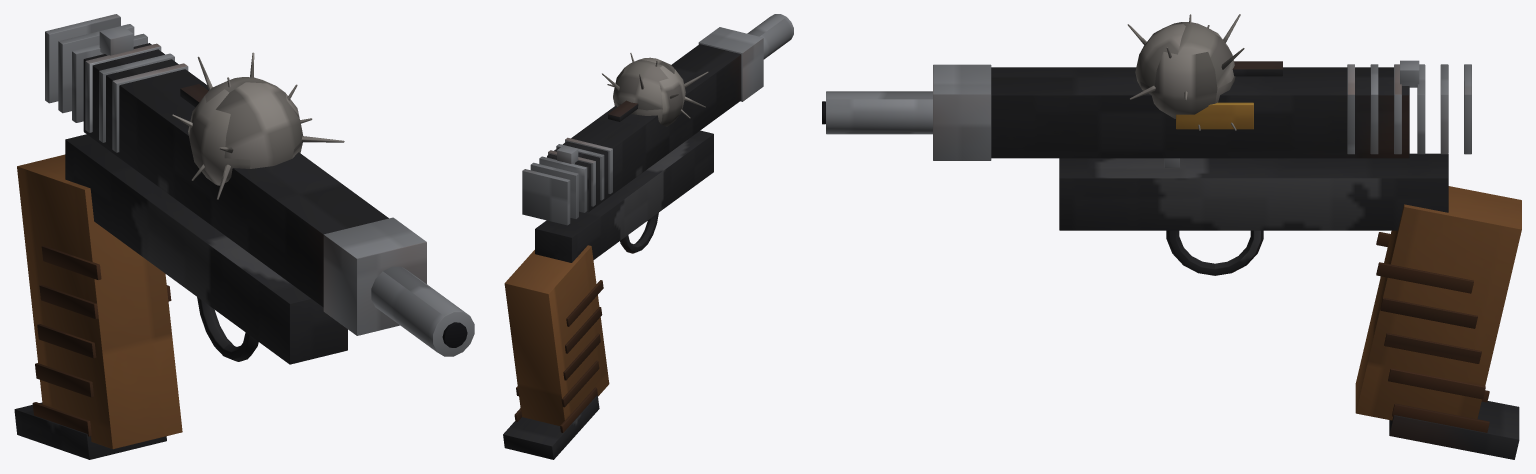
Rendered from weapon_pistol.glb.
3 views of the same model, side by side, from view 1: azimuth 30°, elevation 25°; view 2: azimuth 150°, elevation 25°; view 3: azimuth 270°, elevation 25° (orthographic). The views are drawn at different scales.
Visible parts, largest first — view 1: weapon_pistol; view 2: weapon_pistol; view 3: weapon_pistol.
Part boxes in pixels (bbox=[...]): weapon_pistol: bbox=[14, 14, 474, 459]; weapon_pistol: bbox=[503, 14, 793, 459]; weapon_pistol: bbox=[822, 14, 1521, 459].
Bounding box in the file's own units: 0.0652 × 0.2399 × 0.3597.
Materials: 7 (7 with a texture image).
